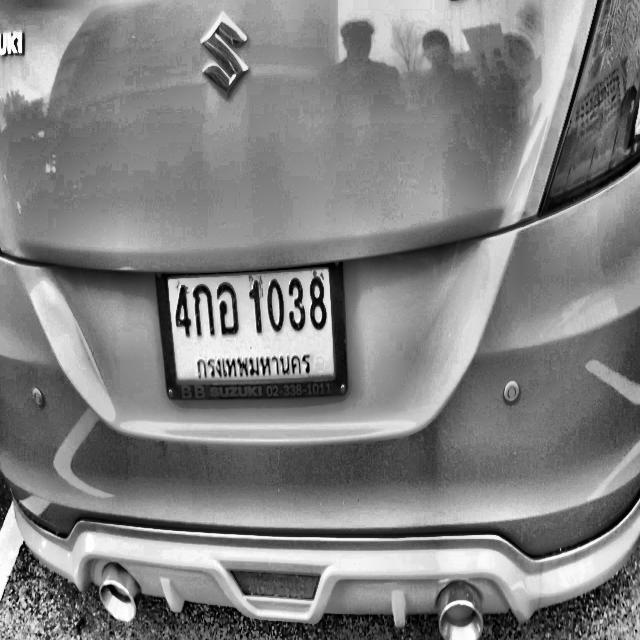license-plate: (155, 254, 348, 401)
